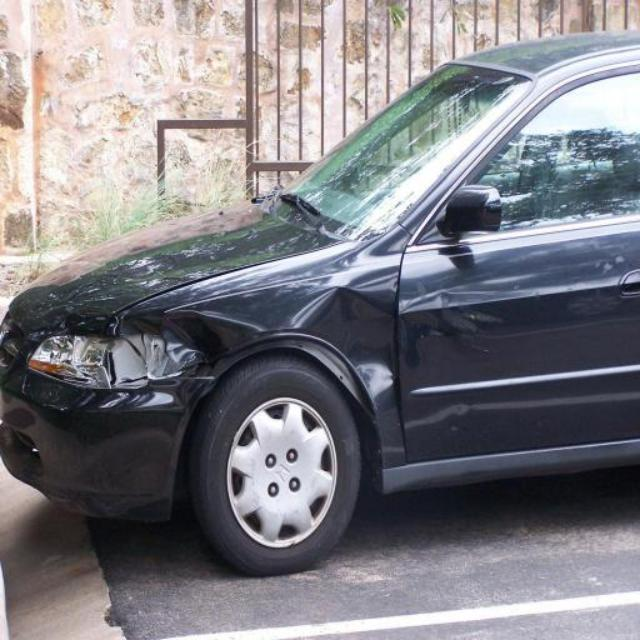dent: (291, 286, 399, 417)
lamp broken: (23, 333, 209, 388)
